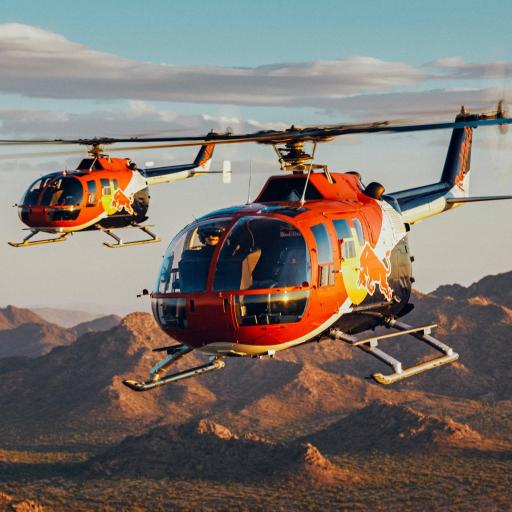helicopter: (109, 97, 512, 402), (2, 126, 238, 262)
